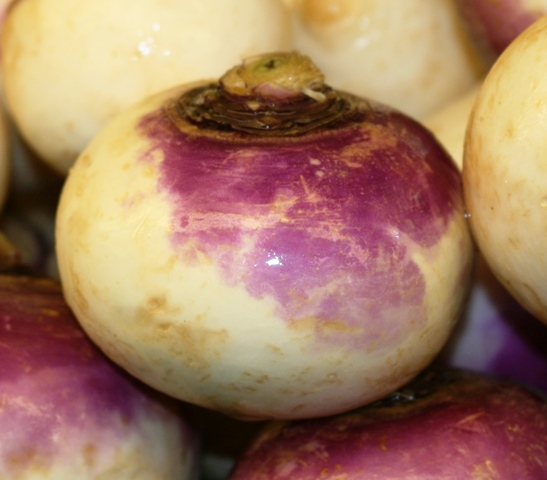turnip: (52, 51, 472, 420)
